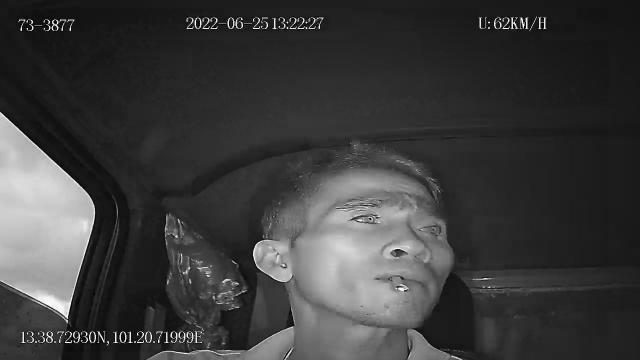SafeDriving: (342, 204, 392, 229), (408, 214, 452, 240)
Smoking: (390, 276, 410, 294)
